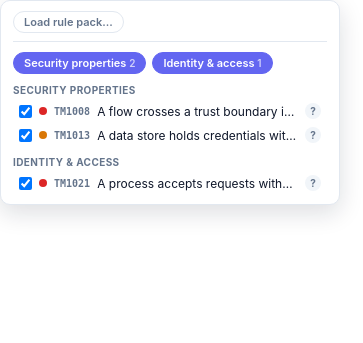
Test: AnalysisSettings — rule help › opens the help panel without also toggling the rule
Click the 1st button titled "What does this rule check?": point(313, 111) top-left (305, 103), bottom-right (321, 119)
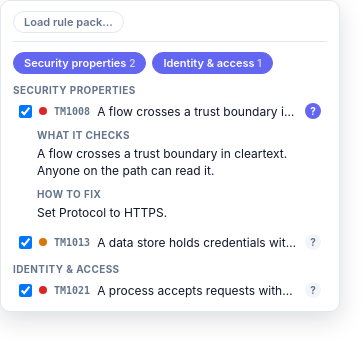
Expected: the text "What it checks" is shown, top-left (37, 129), bottom-right (130, 141)
